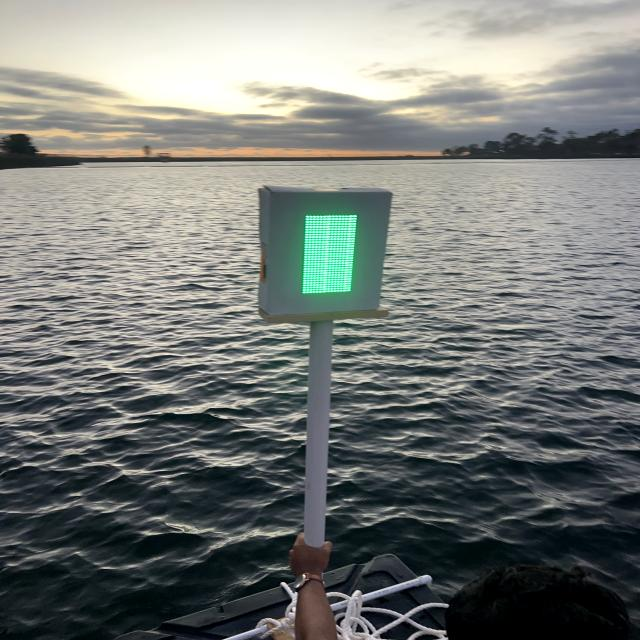led: (291, 206, 368, 304)
